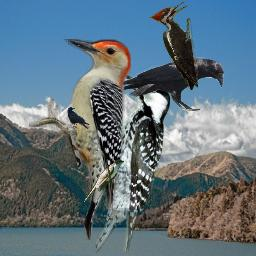Crow: (114, 57, 224, 111), (67, 106, 90, 129)
Cuckoo: (83, 159, 124, 203)
Woodpecker: (29, 39, 131, 240), (90, 70, 170, 253), (149, 1, 198, 90)
